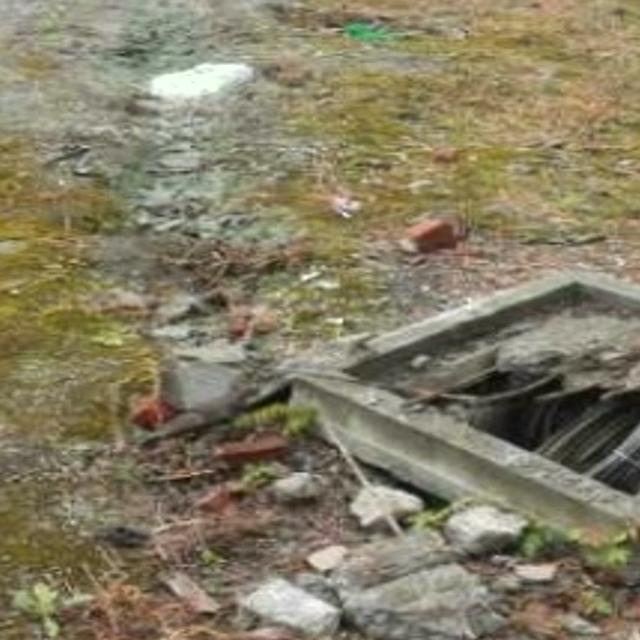broke: (290, 265, 640, 536)
